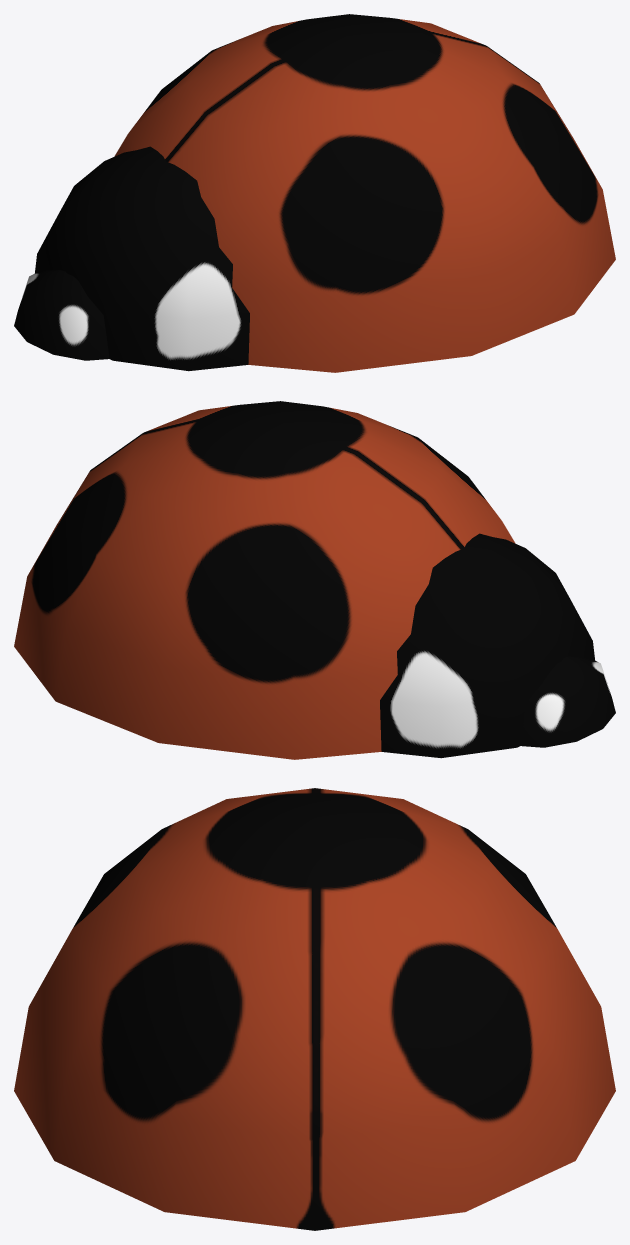
The model's file is ladybug.fbx.
The picture shows the model from 3 angles, top to bottom: view 1: azimuth 30°, elevation 25°; view 2: azimuth 150°, elevation 25°; view 3: azimuth 270°, elevation 25°; orthographic projection. The views are drawn at different scales.
Visible parts, largest first — view 1: Ladybug; view 2: Ladybug; view 3: Ladybug.
Boxes of the visible parts, bbox=[...] form: Ladybug: bbox=[14, 14, 615, 372]; Ladybug: bbox=[14, 401, 615, 759]; Ladybug: bbox=[14, 788, 615, 1230].
Size of the model in its own units: 74.17 by 28.89 by 57.77.
